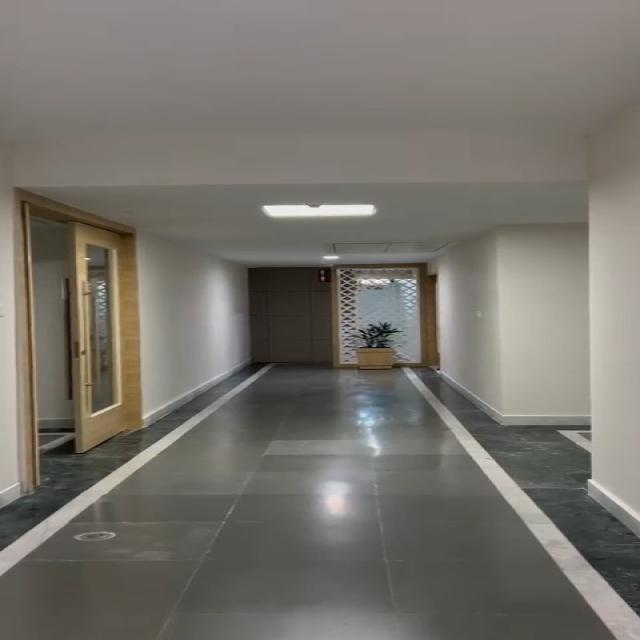door: (6, 204, 148, 455)
floor: (6, 448, 640, 640), (185, 379, 492, 458)
furniture: (336, 305, 419, 384)
wall: (448, 204, 640, 435), (131, 235, 264, 392)
